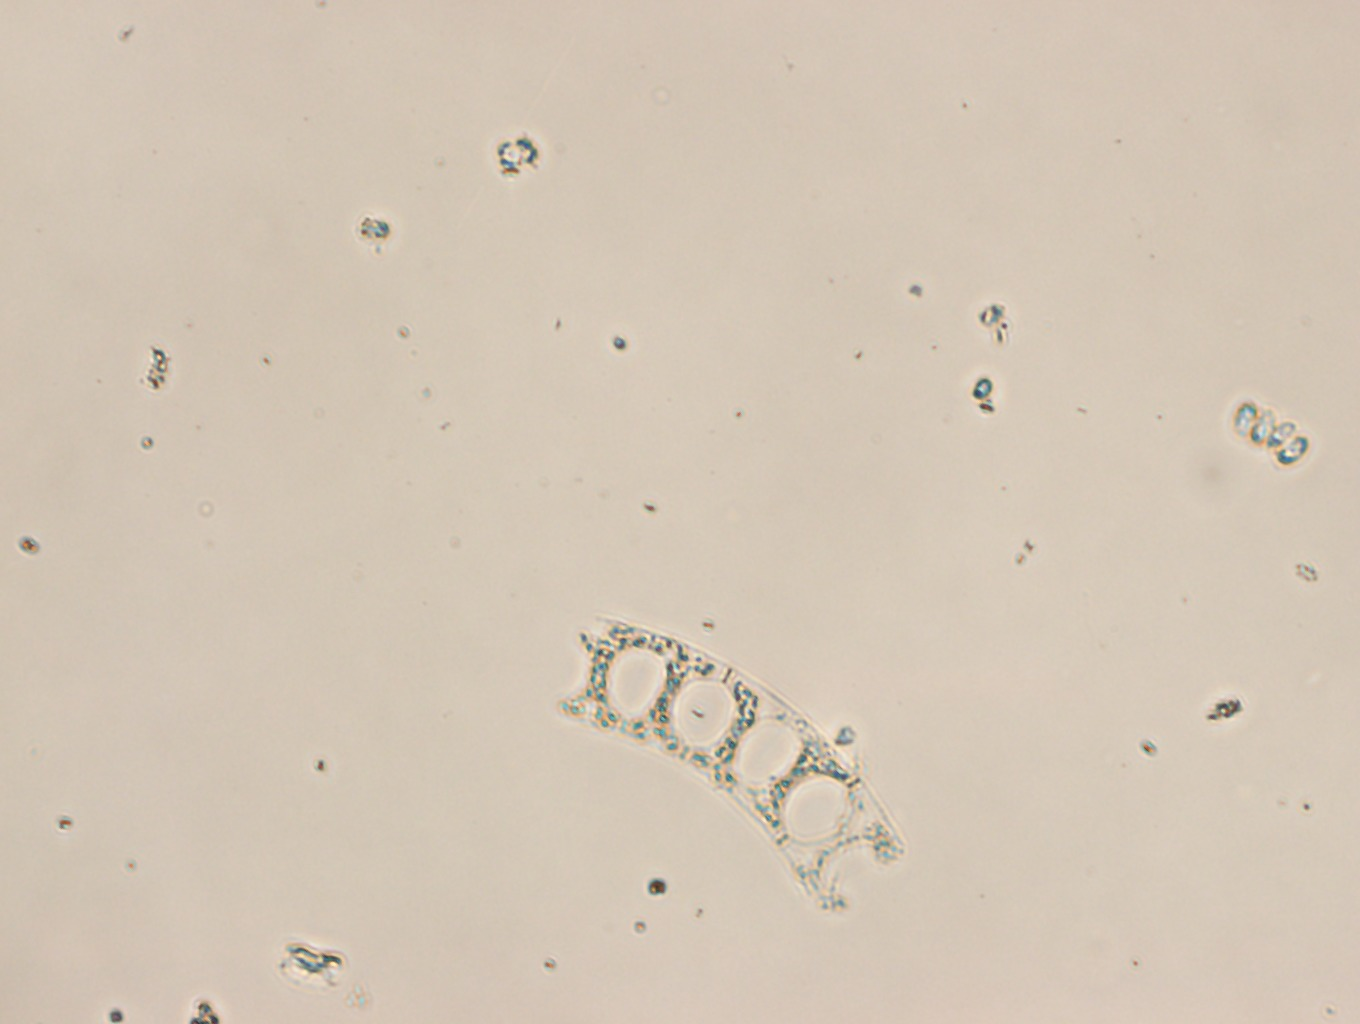eucampia: (552, 611, 910, 915)
